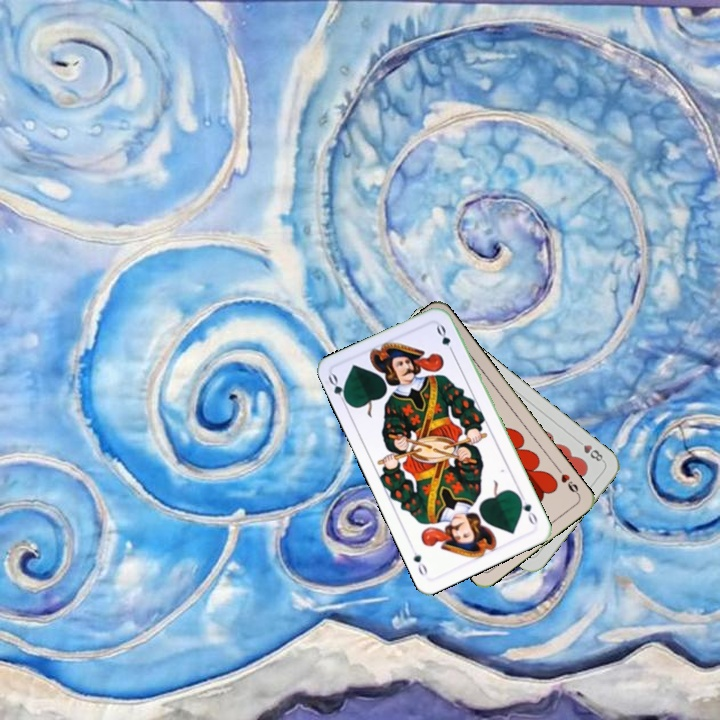GO: (324, 370, 352, 409), (514, 490, 540, 529)
H8: (572, 435, 607, 465)
H9: (552, 463, 582, 498)
